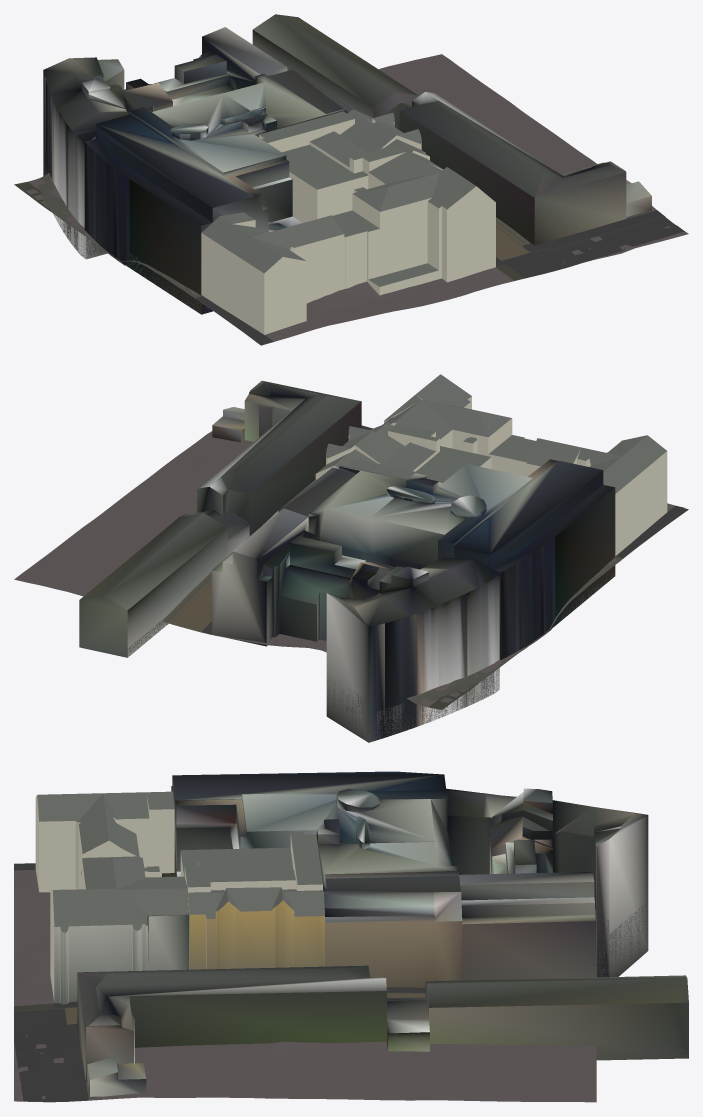
The picture shows the model from 3 angles, top to bottom: view 1: azimuth 30°, elevation 25°; view 2: azimuth 150°, elevation 25°; view 3: azimuth 270°, elevation 25°; orthographic projection. The views are drawn at different scales.
Visible parts, largest first — view 1: c_m02_m02; view 2: c_m02_m02; view 3: c_m02_m02.
Part boxes in pixels (x1,y1,x2,y2): c_m02_m02: (14, 14, 688, 345); c_m02_m02: (14, 374, 688, 742); c_m02_m02: (14, 771, 688, 1102).
Size of the model in its own units: 128 by 41.24 by 148.
